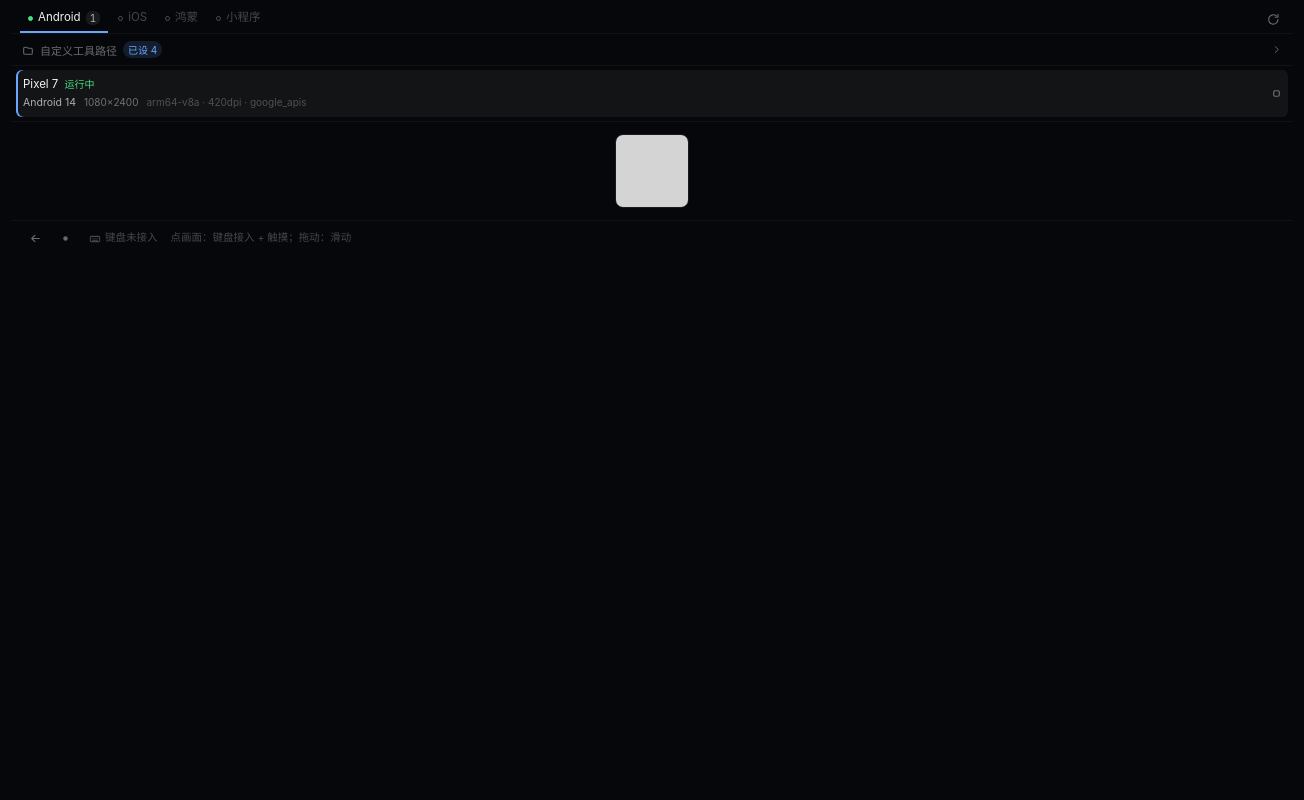
Test: 自定义工具路径 › 「全部清空」把四项都置 null 而不只是清显示
Click the button with class "sim-paths-toggle": (78, 50) [12, 34, 1292, 65]
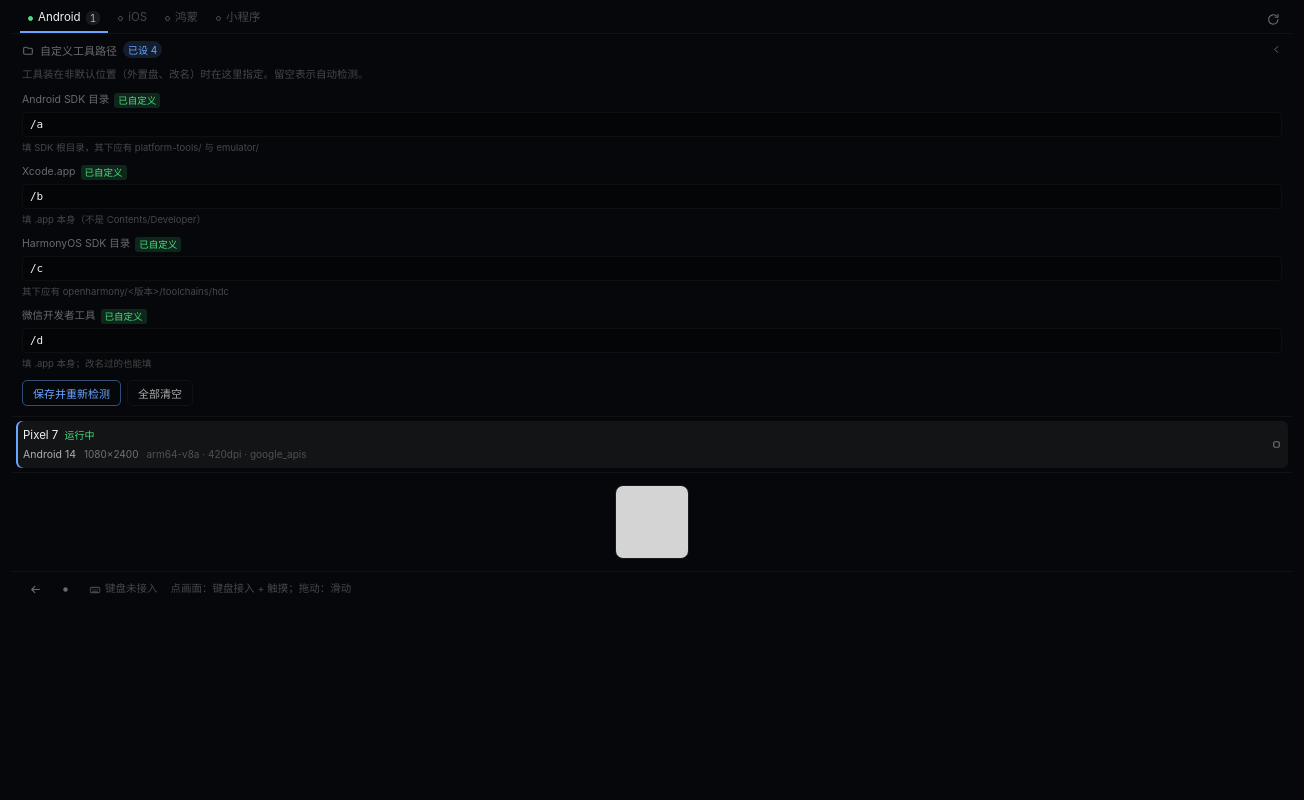
Click the button with class "sim-paths-clear": (160, 393) [127, 380, 193, 406]
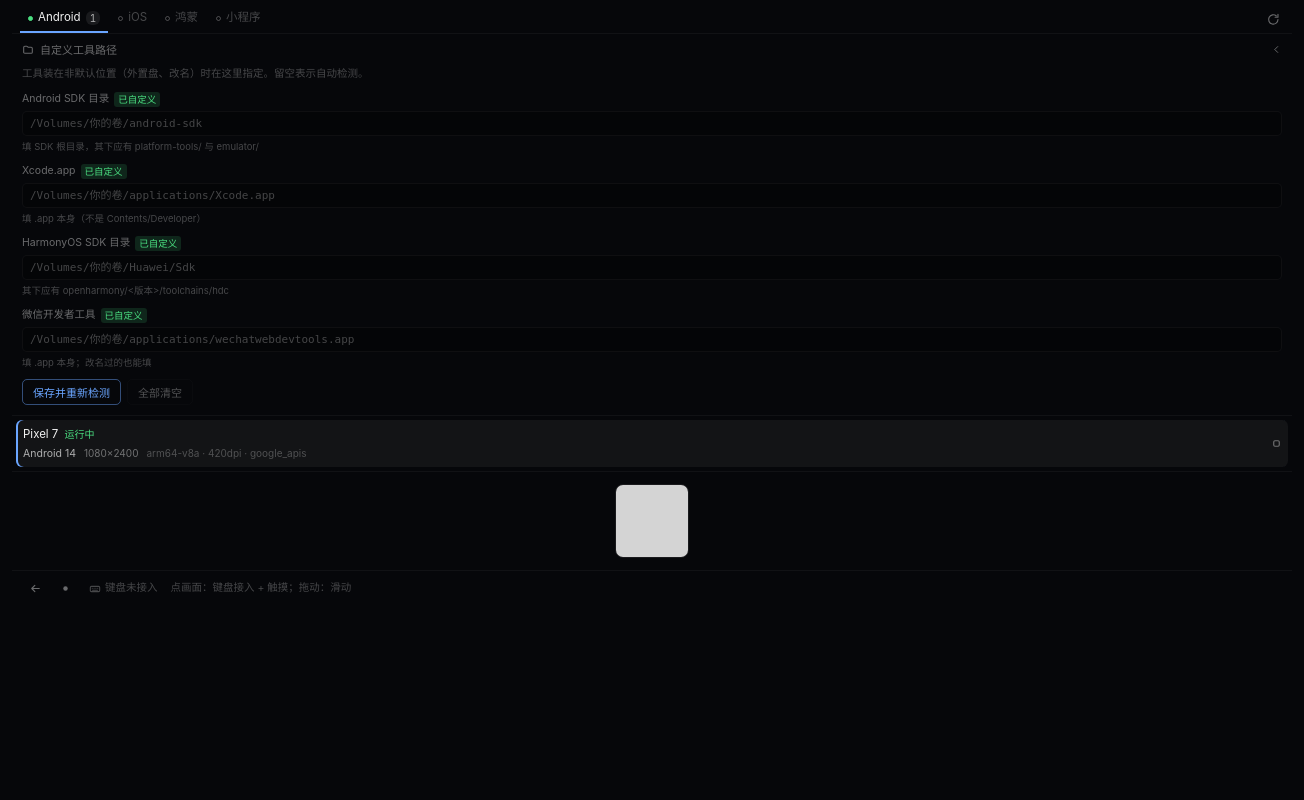
Result: the 1st field is empty at [22, 111, 1282, 136]
Result: the field labelled "Xcode.app 已自定义 填 .app 本身（不是 Contents/Developer）" is empty at [22, 183, 1282, 208]
Result: the field labelled "HarmonyOS SDK 目录 已自定义 其下应有 openharmony/<版本>/toolchains/hdc" is empty at [22, 255, 1282, 280]
